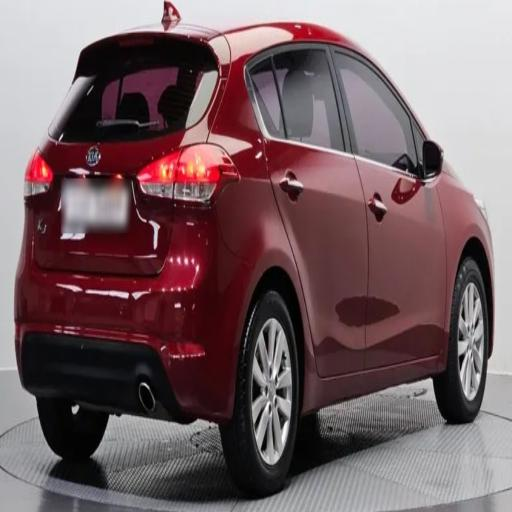dent: (320, 246, 406, 354)
scratch: (39, 264, 189, 324), (115, 146, 171, 264)
